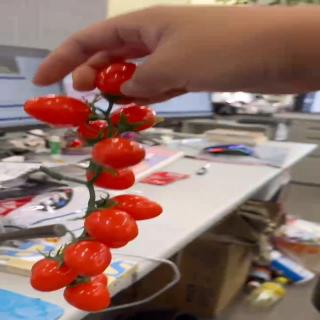tomato: (24, 95, 94, 129), (83, 207, 139, 244), (89, 136, 146, 170), (65, 273, 114, 312), (64, 238, 114, 276), (93, 61, 136, 104), (101, 195, 166, 223), (82, 160, 136, 192), (30, 256, 78, 292), (108, 104, 158, 133), (76, 120, 112, 151)
